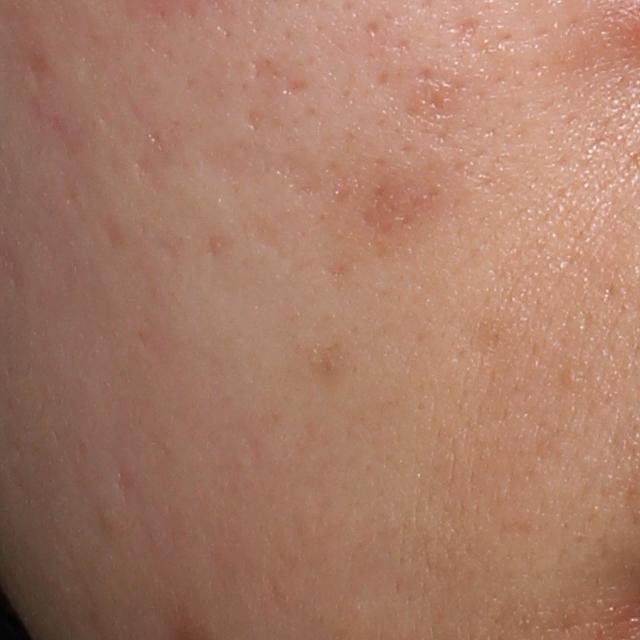atrophic_scar: (252, 217, 295, 268), (111, 467, 136, 503), (242, 107, 265, 133)
comedo: (560, 365, 586, 395)
